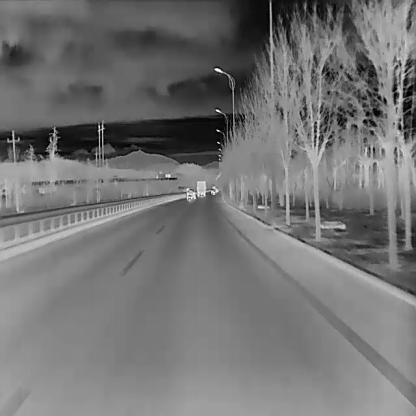car: (186, 188, 196, 200), (210, 188, 214, 194)
truck: (196, 180, 206, 196)
